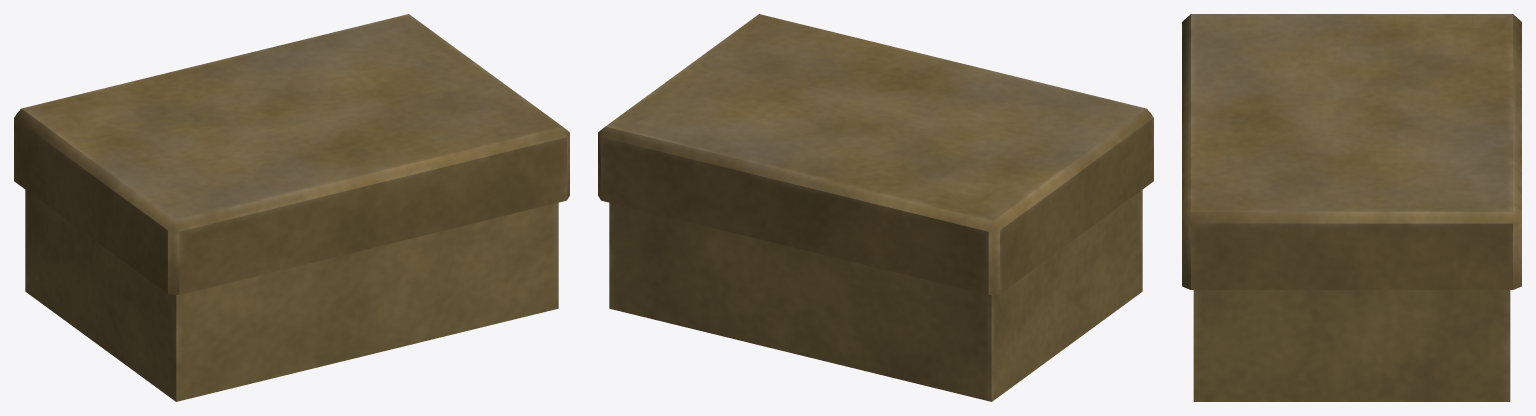
3 views of the same model, side by side, from view 1: azimuth 30°, elevation 25°; view 2: azimuth 150°, elevation 25°; view 3: azimuth 270°, elevation 25° (orthographic). The views are drawn at different scales.
Visible parts, largest first — view 1: box 2; view 2: box 2; view 3: box 2.
Boxes of the visible parts, x1=… form: box 2: x1=14, y1=14, x2=569, y2=401; box 2: x1=598, y1=14, x2=1153, y2=401; box 2: x1=1182, y1=14, x2=1521, y2=401.
Bounding box in the file's own units: 0.166 × 0.072 × 0.116.
Materials: 1 (1 with a texture image).
